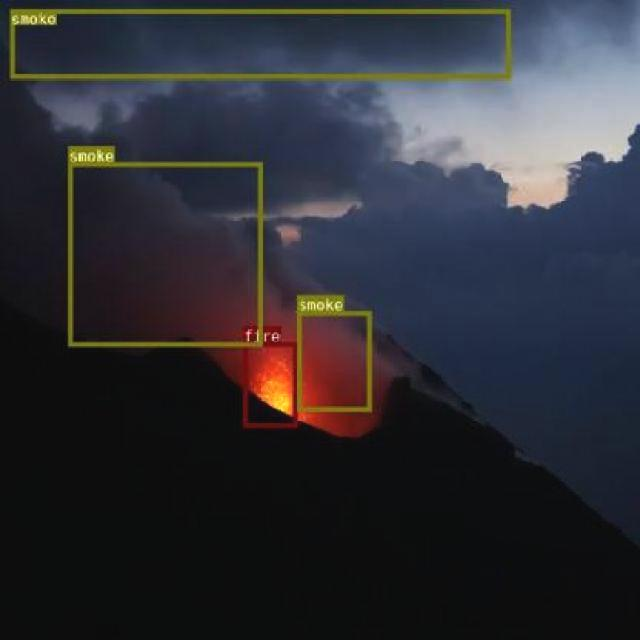fire: (242, 342, 296, 426)
smoke: (68, 162, 262, 346), (10, 8, 510, 78), (296, 311, 370, 411)
